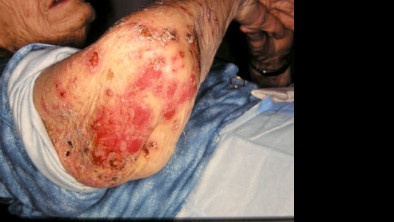SJS-TEN: (2, 0, 310, 222)
